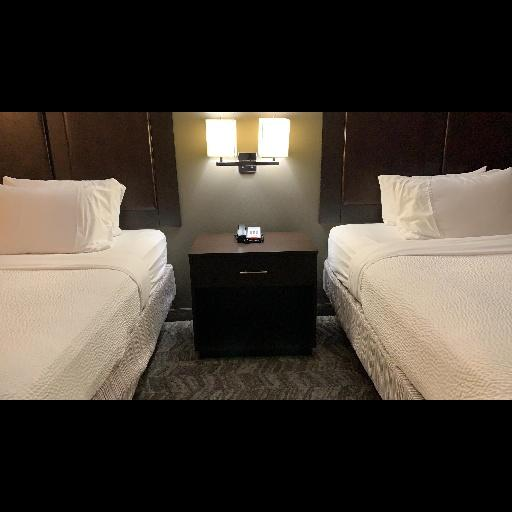clean_bed: (322, 110, 511, 405), (0, 112, 185, 405)
organized table: (191, 224, 321, 355)
